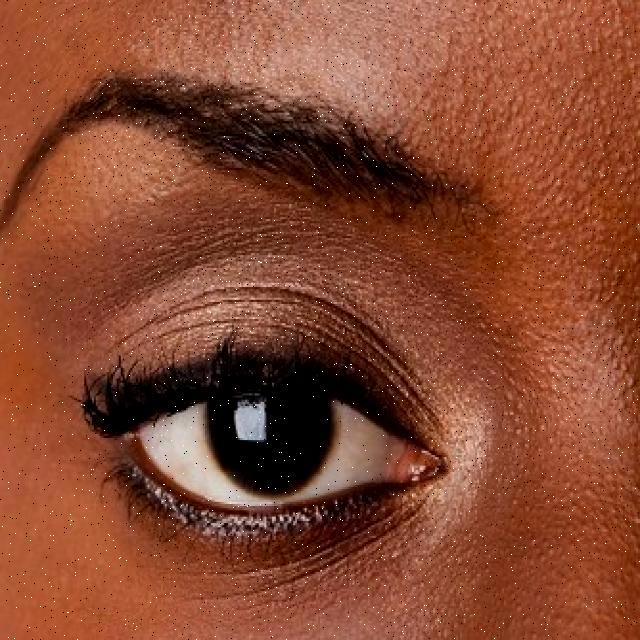Normal: (14, 276, 543, 606)
